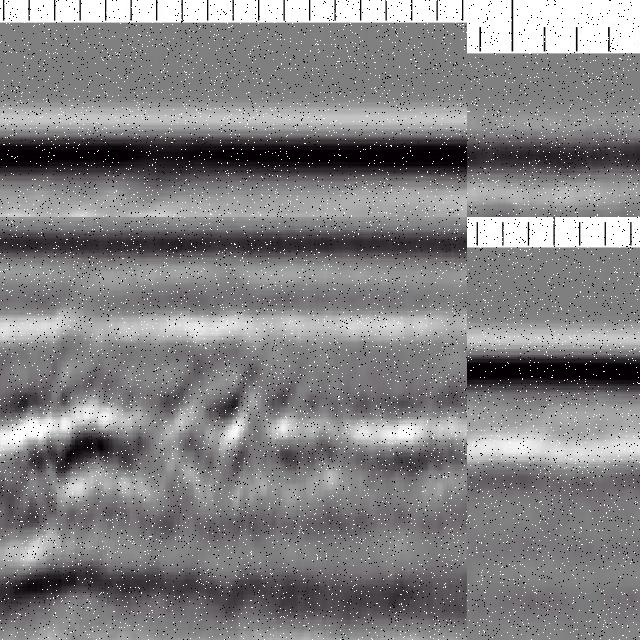loose: (1, 372, 176, 601)
